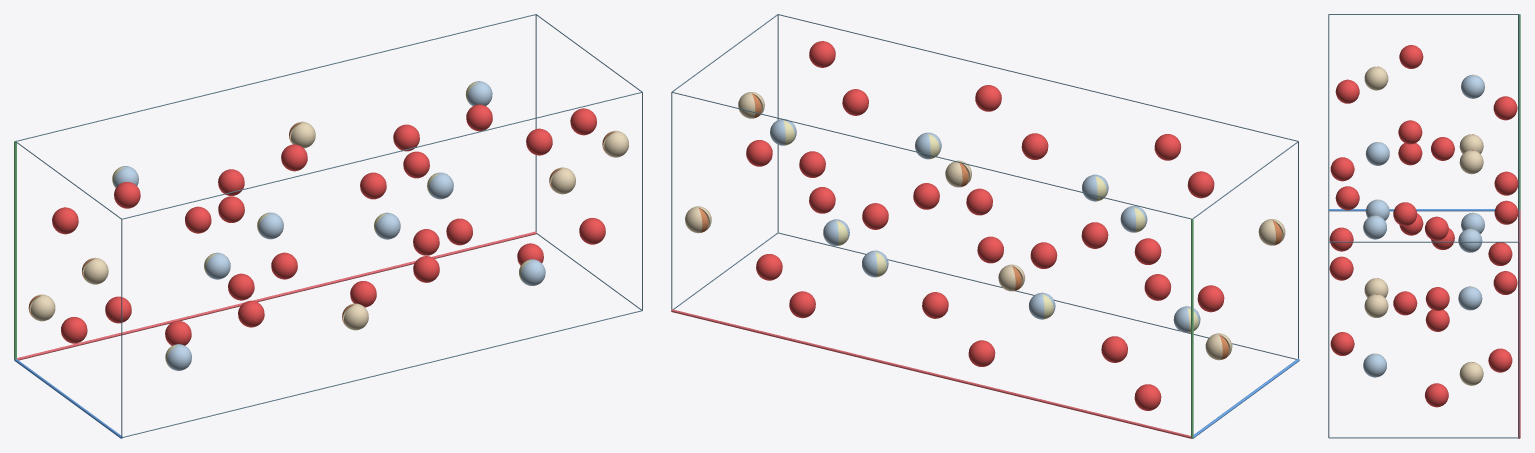
File: tantalite.glb
3 views of the same model, side by side, from view 1: azimuth 30°, elevation 25°; view 2: azimuth 150°, elevation 25°; view 3: azimuth 270°, elevation 25° (orthographic). The views are drawn at different scales.
Visible parts, largest first — view 1: Ô mạng và các trục a, b, c; view 2: Ô mạng và các trục a, b, c; view 3: O2 · O · 1 (×8), O1 · O · 1 (×8), O3 · O · 1 (×8), Ta · Ta · 0.86 (×8), Ô mạng và các trục a, b, c, Mn · Mn · 0.88 (×6).
Boxes of the visible parts, x1,y1,x2,y2 form: Ô mạng và các trục a, b, c: [14, 14, 642, 438]; Ô mạng và các trục a, b, c: [671, 14, 1299, 438]; O2 · O · 1 (×8): [1330, 96, 1517, 355]; O1 · O · 1 (×8): [1329, 45, 1518, 407]; O3 · O · 1 (×8): [1335, 79, 1512, 372]; Ta · Ta · 0.86 (×8): [1363, 74, 1484, 377]; Ô mạng và các trục a, b, c: [1328, 14, 1520, 438]; Mn · Mn · 0.88 (×6): [1364, 66, 1483, 385].
Size of the model in its own units: 14.96 by 5.79 by 5.11.
